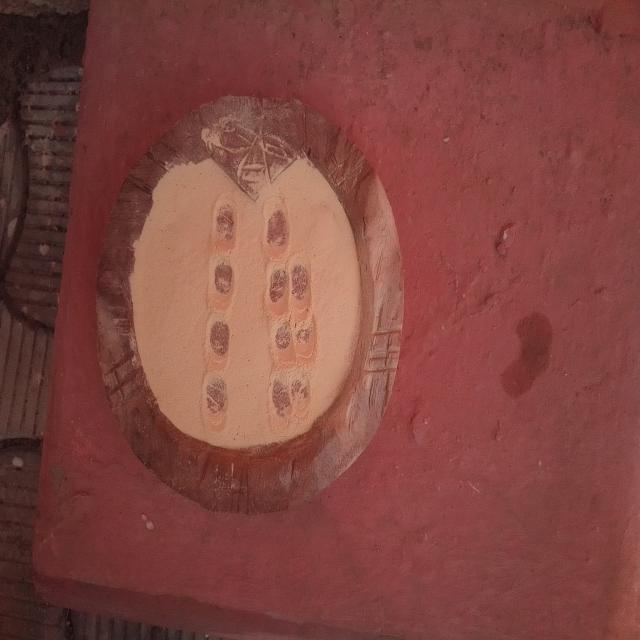double: (263, 252, 315, 320), (266, 311, 324, 367), (266, 361, 314, 428)
single: (200, 370, 232, 438), (261, 192, 293, 260), (210, 194, 240, 259), (206, 256, 238, 316), (204, 312, 234, 374)
